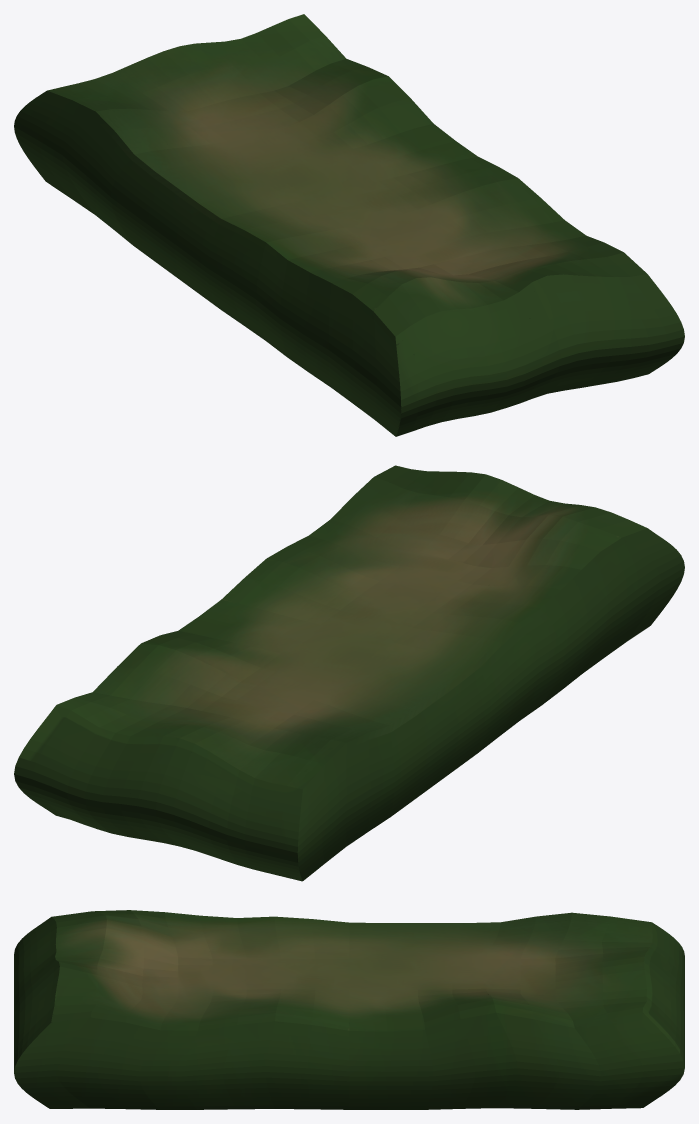
The model's file is platform2.fbx.
3 renders of one model, top to bottom at view 1: azimuth 30°, elevation 25°; view 2: azimuth 150°, elevation 25°; view 3: azimuth 270°, elevation 25°, orthographic. The views are drawn at different scales.
Parts seen in each view (by area): view 1: Cube; view 2: Cube; view 3: Cube.
Boxes of the visible parts, x1,y1,x2,y2 form: Cube: (14, 14, 684, 436); Cube: (14, 465, 684, 881); Cube: (14, 910, 684, 1109).
Size of the model in its own units: 1159 by 471 by 2739.
